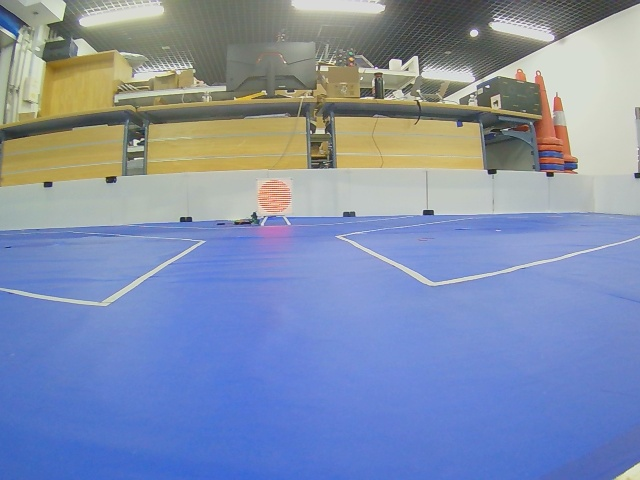red: (257, 179, 292, 215)
